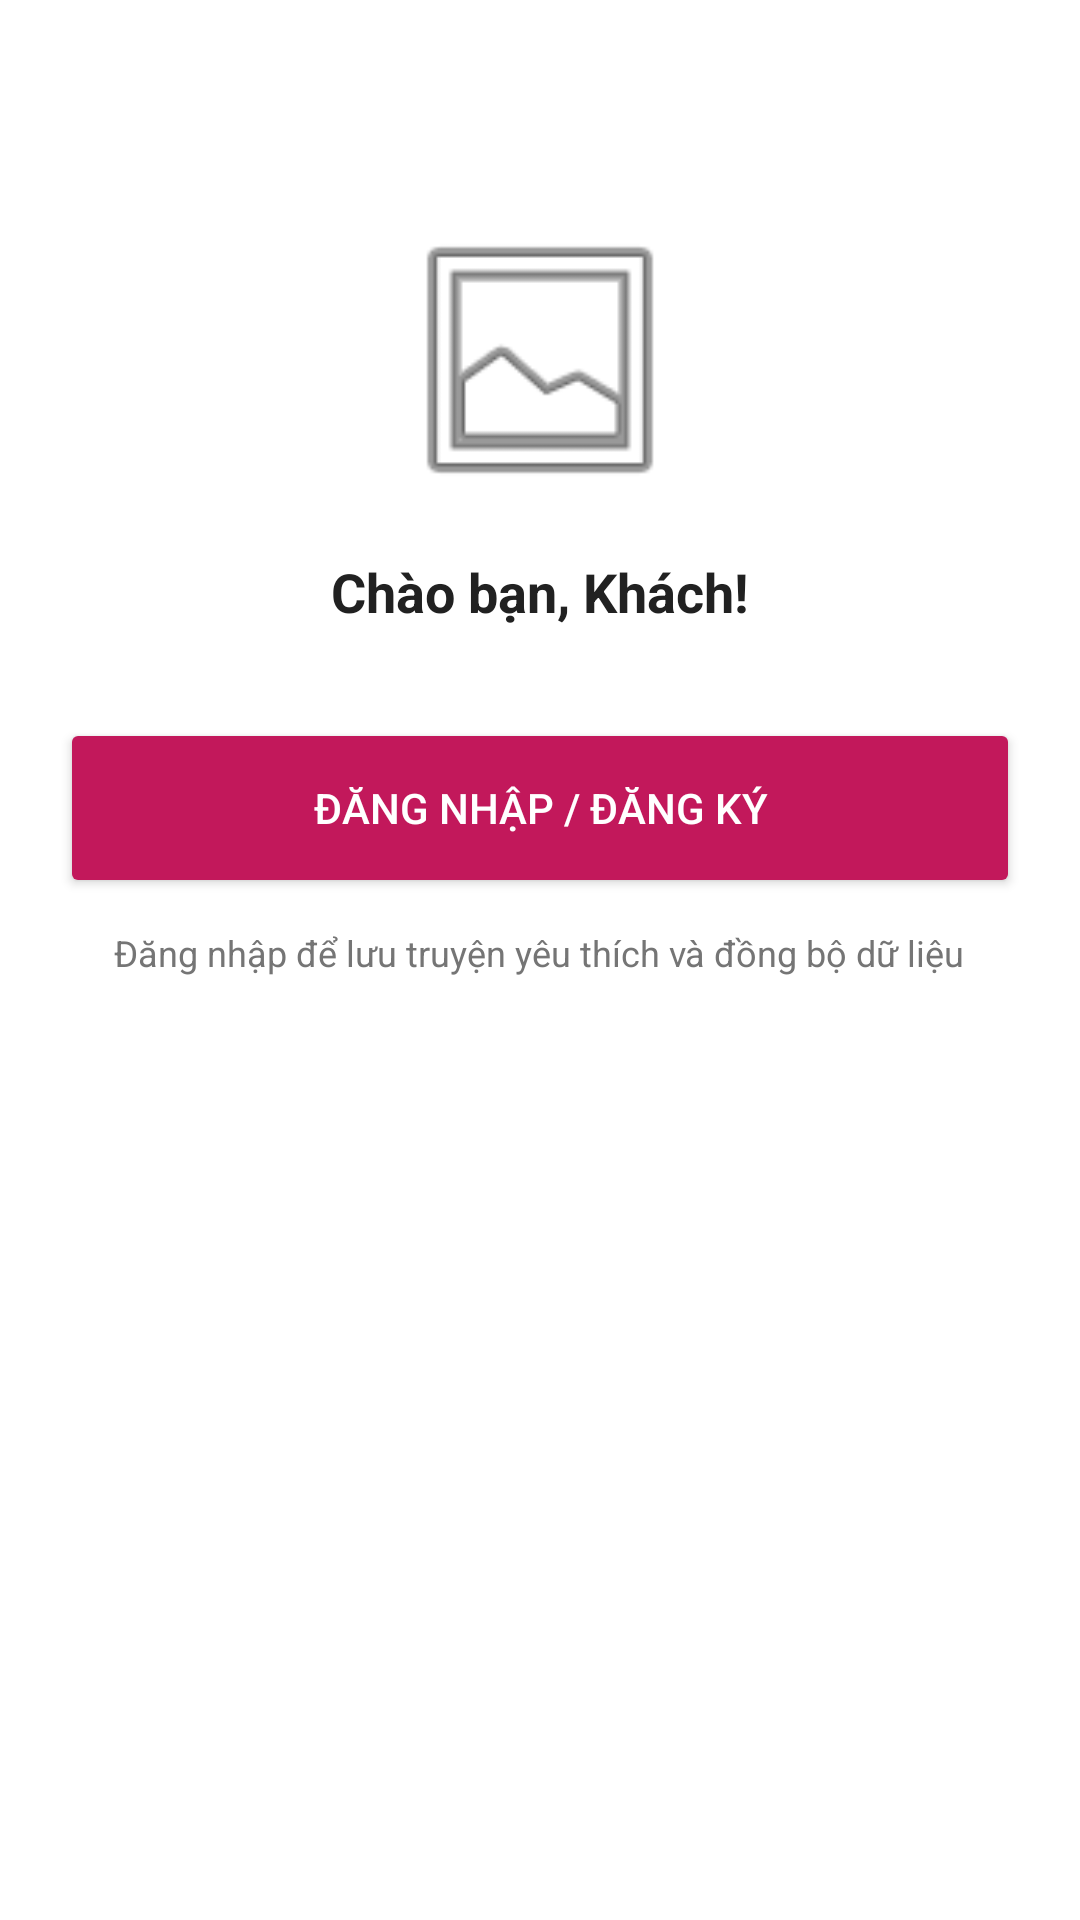

Icons on this 1080 x 1920 Android screen, each with its box as BBox(x1, y1, x2, y2):
gallery: BBox(427, 247, 653, 473)
